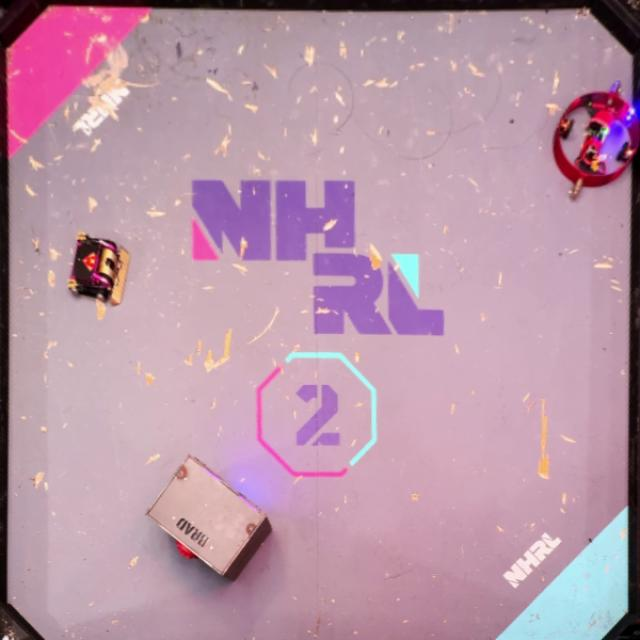housebot: (144, 454, 273, 584)
robot: (552, 78, 640, 198), (68, 232, 130, 305)
